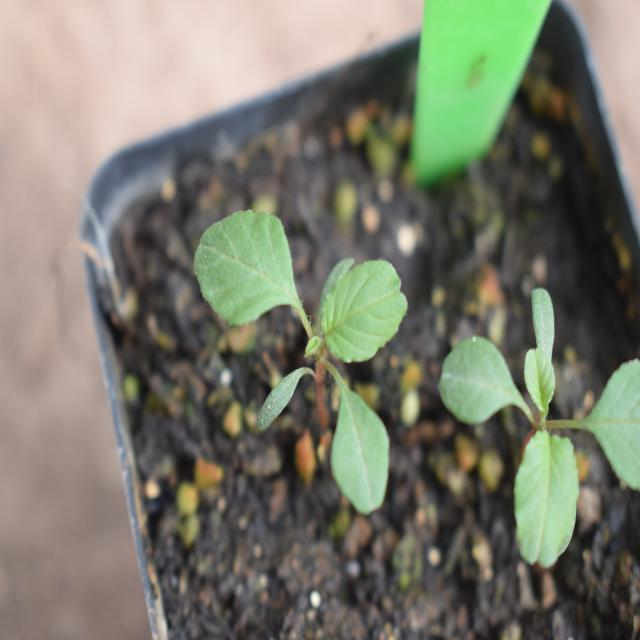pigweed: (181, 196, 420, 498)
